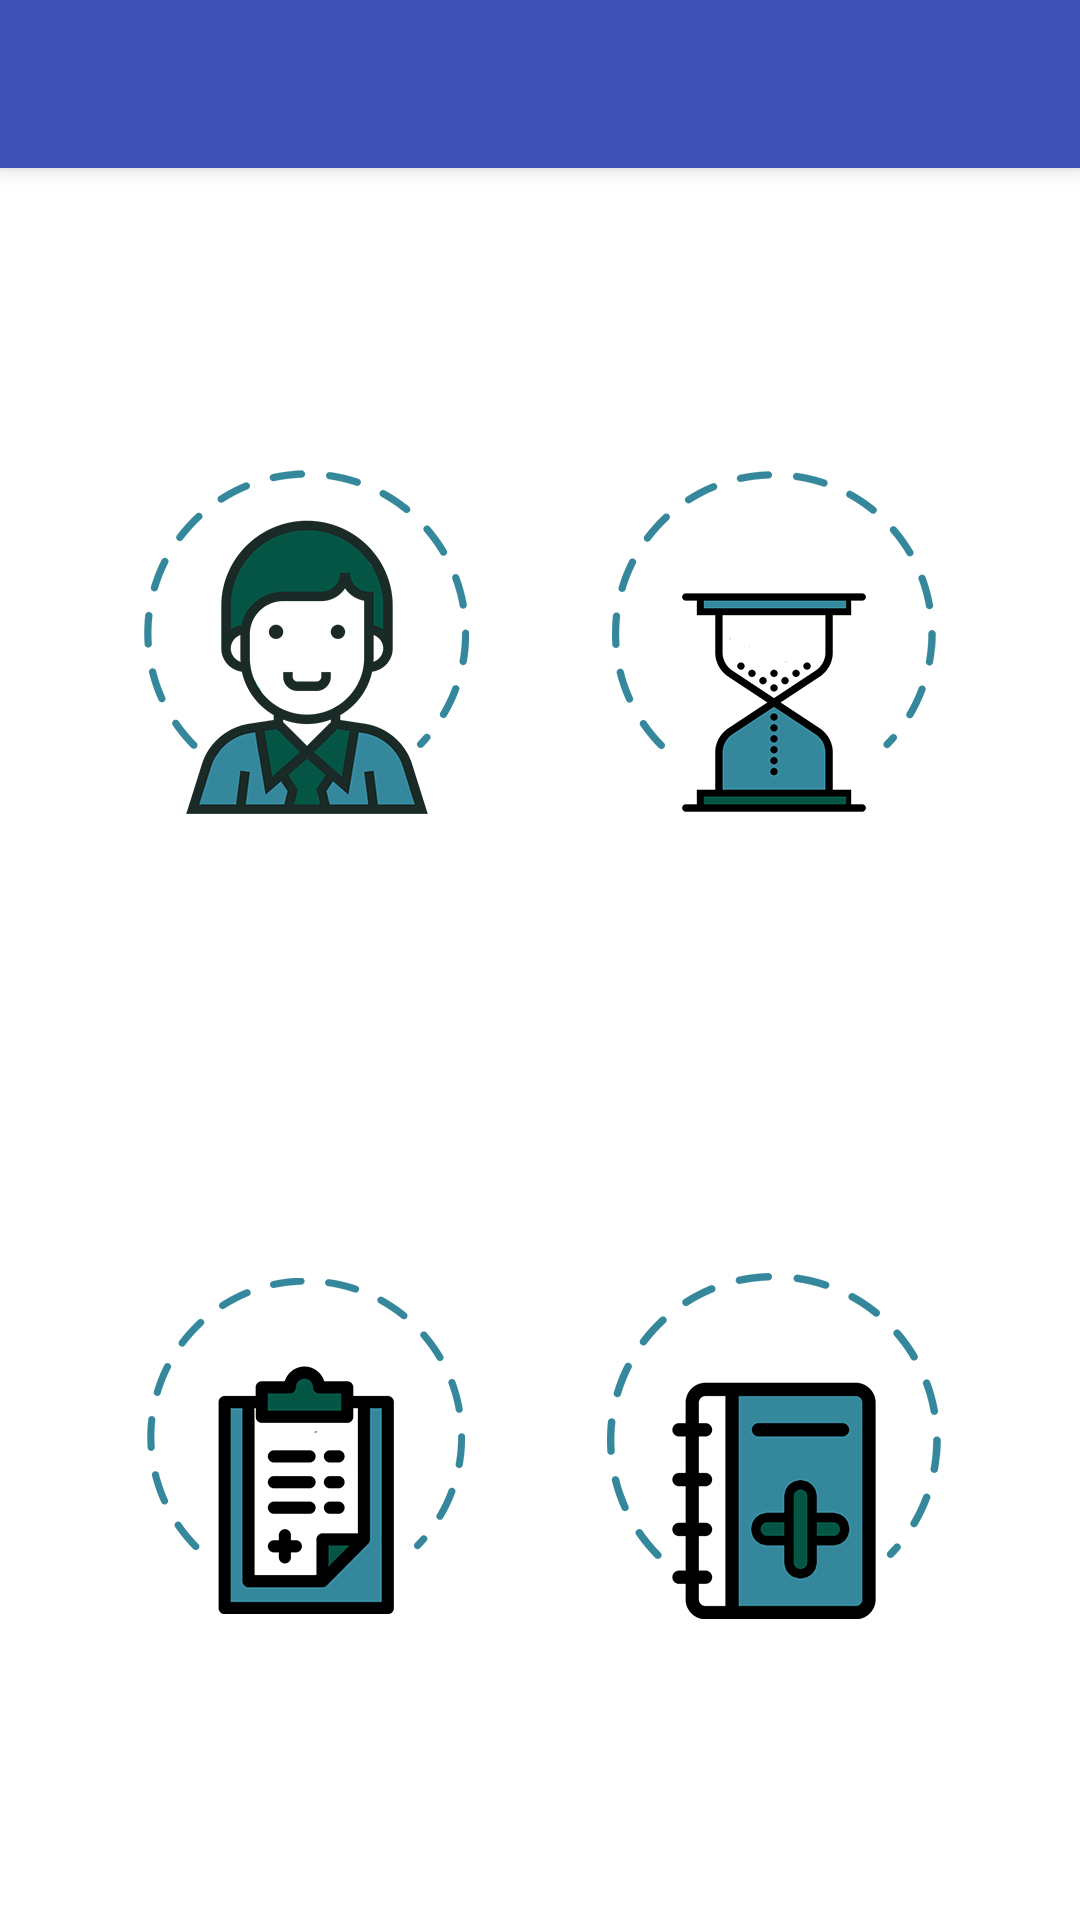

Screen size 1080px x 1920px. Icon name, then its box in pixels as (x1=x1, y1=y1, x2=x2, y2=y2):
Diary: (x1=607, y1=1273, x2=941, y2=1619)
History: (x1=612, y1=471, x2=936, y2=812)
My Profile: (x1=144, y1=470, x2=469, y2=814)
Report: (x1=147, y1=1278, x2=465, y2=1614)
